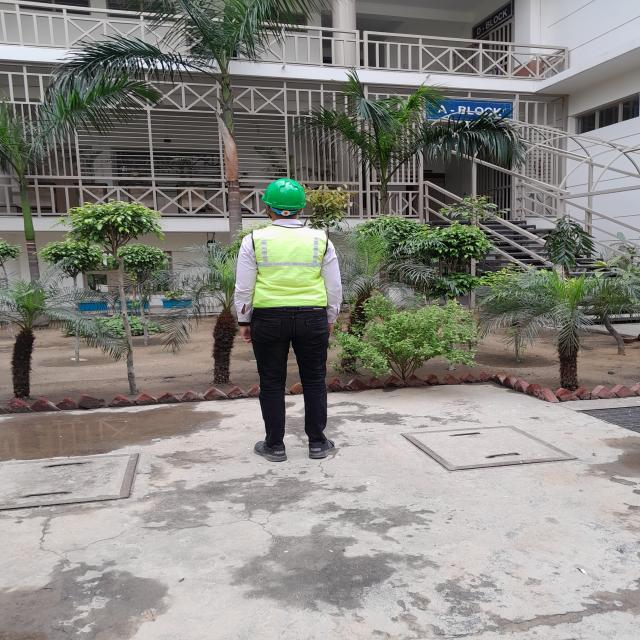safe: (238, 178, 340, 459)
